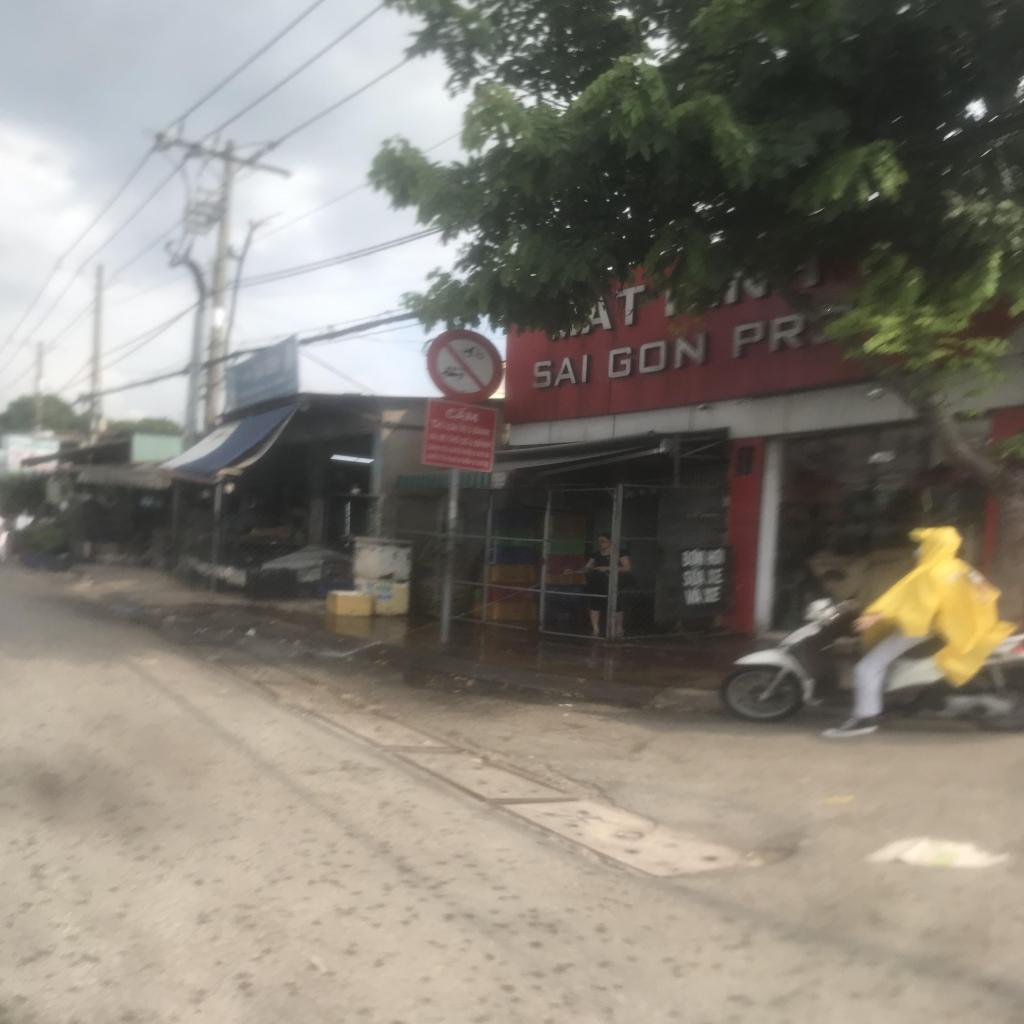cam_cac_loai_xe_3_banh: (427, 329, 505, 404)
